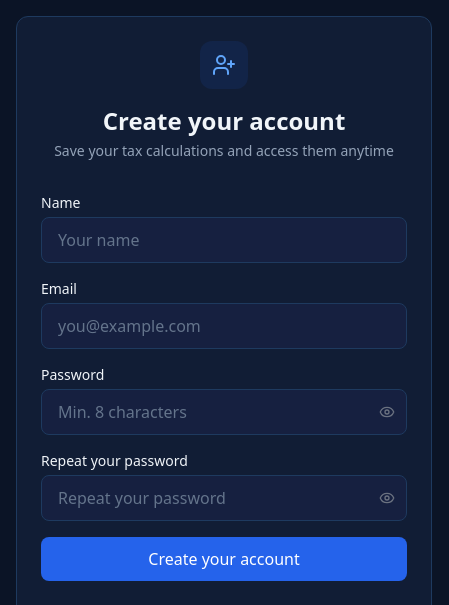
SignupPage - client-side validation › blocks submit and shows the required error on an empty form
The width and height of the screenshot is (449, 605).
Click the button "Create your account" at (224, 559), box x1=41 y1=537 x2=407 y2=581
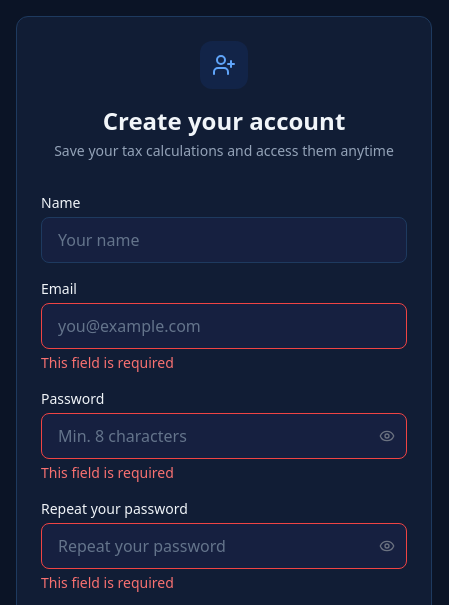
Check: the text "This field is required" below "Email" is shown, box x1=41 y1=353 x2=174 y2=372
